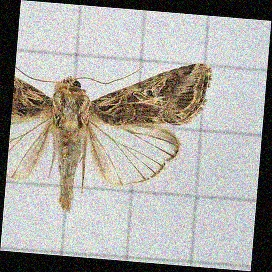Spodoptera litura: (10, 56, 208, 219)
